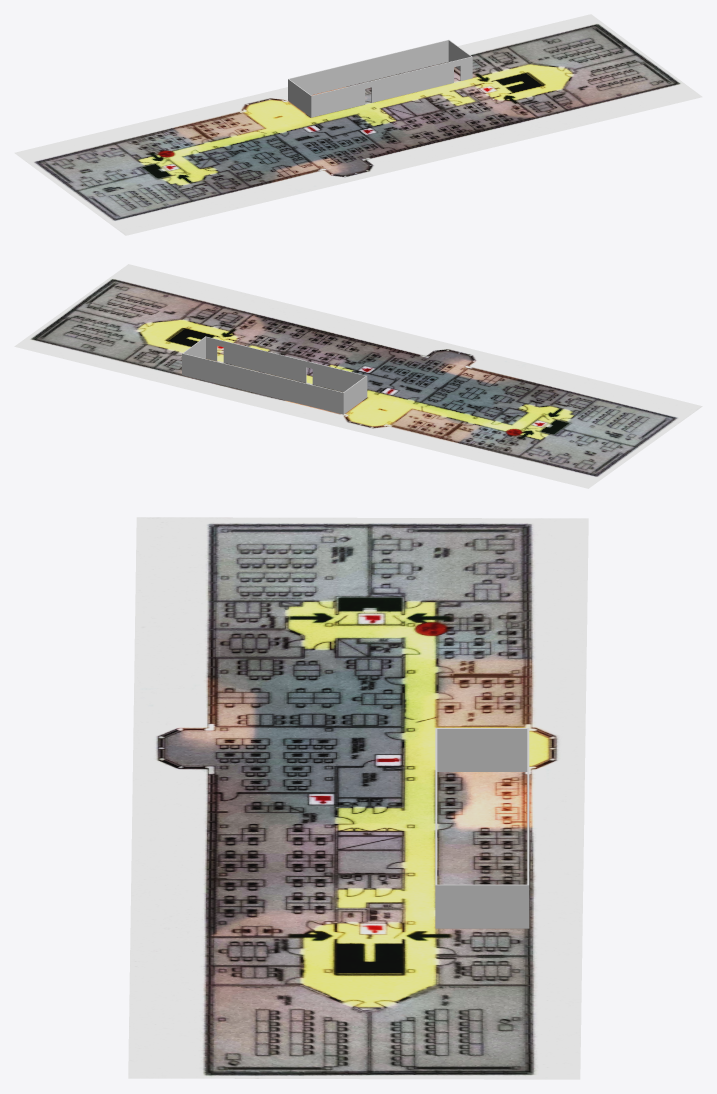
The model's file is LabRoomAndFloor.fbx.
3 renders of one model, top to bottom at view 1: azimuth 30°, elevation 25°; view 2: azimuth 150°, elevation 25°; view 3: azimuth 270°, elevation 25°, orthographic. The views are drawn at different scales.
Visible parts, largest first — view 1: Floor, LabRoom; view 2: Floor, LabRoom; view 3: Floor, LabRoom.
Boxes of the visible parts, <box> form: Floor: <box>14,14,702,235</box>; LabRoom: <box>288,39,472,117</box>; Floor: <box>14,264,702,488</box>; LabRoom: <box>182,336,367,414</box>; Floor: <box>128,517,588,1079</box>; LabRoom: <box>435,728,529,928</box>.
Bounding box in the file's own units: 7748 × 277 × 2681.
